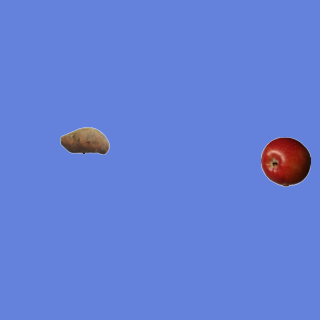Apple Braeburn: (260, 136, 310, 186)
Potato Sweet: (59, 115, 109, 165)
